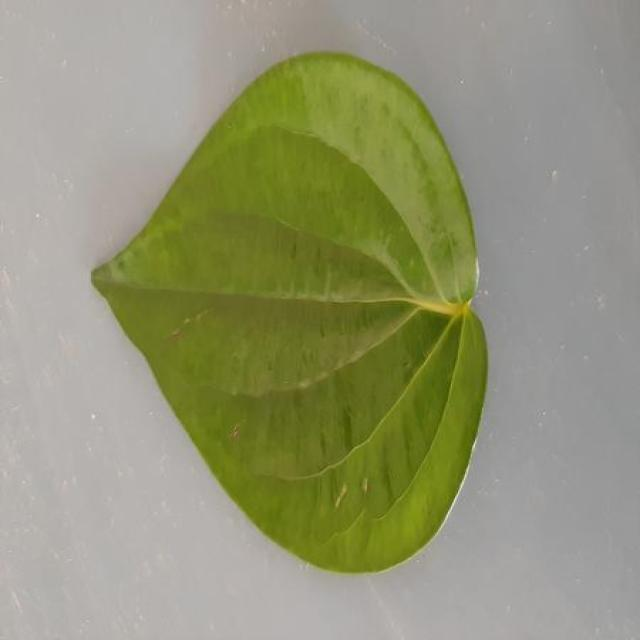betel: (92, 52, 487, 572)
